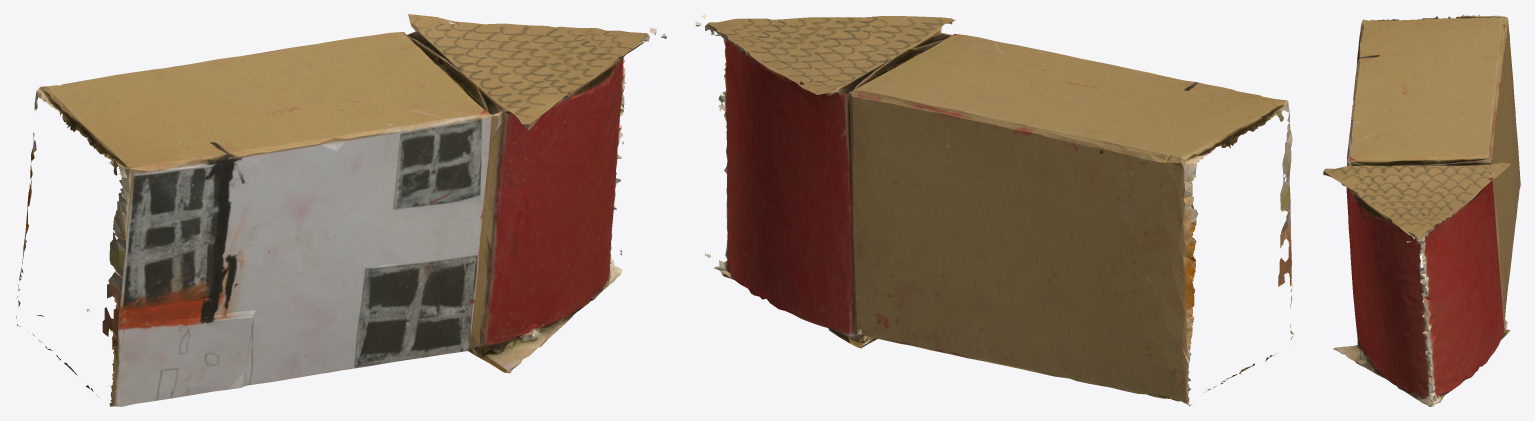
File: m2_5K_1024tex.glb
The picture shows the model from 3 angles, left to right: view 1: azimuth 30°, elevation 25°; view 2: azimuth 150°, elevation 25°; view 3: azimuth 270°, elevation 25°; orthographic projection. The views are drawn at different scales.
Size of the model in its own units: 3.35 by 1.57 by 1.35.
Materials: 1 (1 with a texture image).
